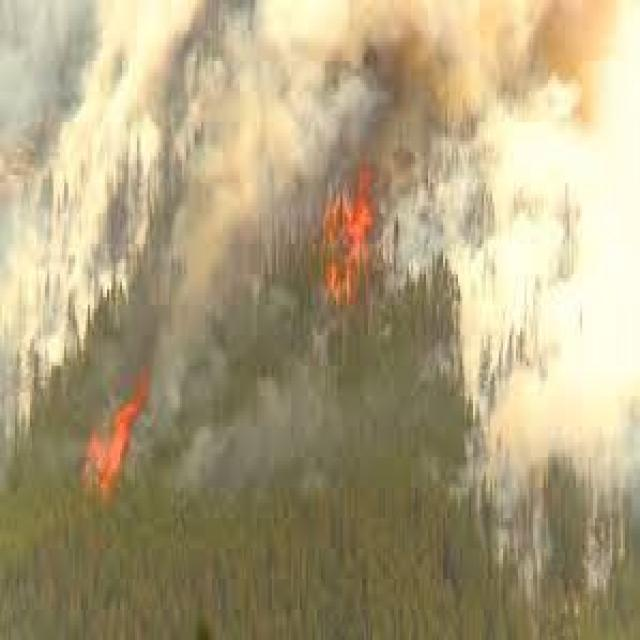Fire: (306, 170, 411, 300), (76, 380, 166, 508)
Smoke: (4, 0, 640, 539)
